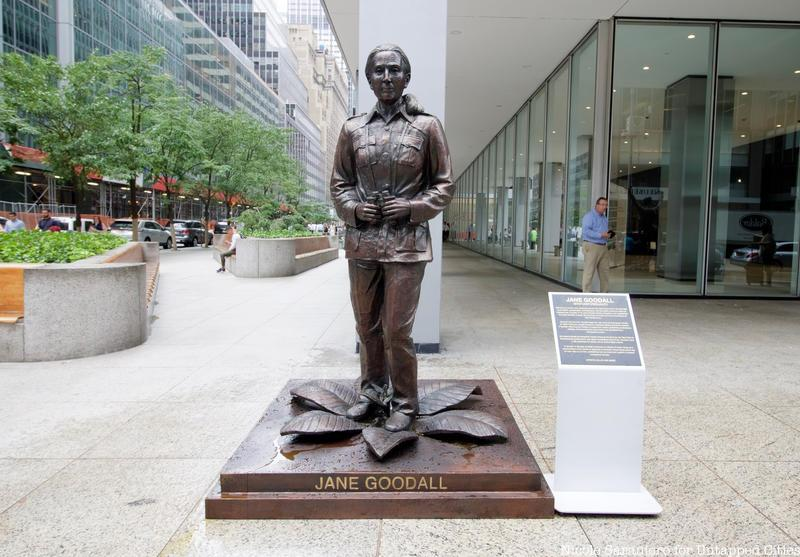person: (572, 195, 621, 296), (1, 209, 30, 234), (36, 207, 54, 230)
